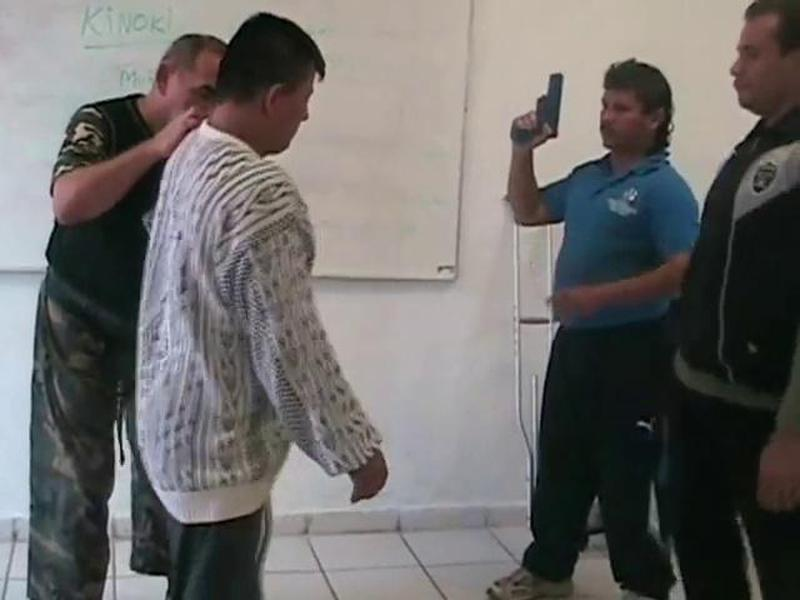Pistola: (500, 64, 575, 164)
